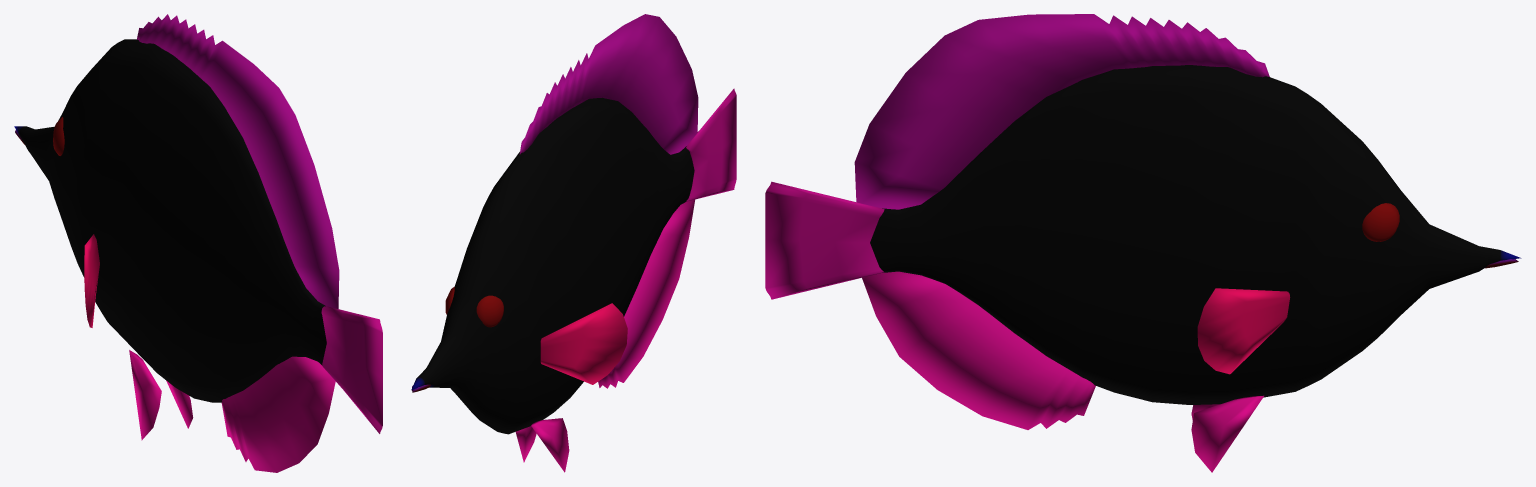
File: butterflyfish_copperband_game.glb
The picture shows the model from 3 angles, left to right: view 1: azimuth 30°, elevation 25°; view 2: azimuth 150°, elevation 25°; view 3: azimuth 270°, elevation 25°; orthographic projection. The views are drawn at different scales.
Visible parts, largest first — view 1: butterflyfish_copperband_game; view 2: butterflyfish_copperband_game; view 3: butterflyfish_copperband_game.
Part boxes in pixels (box(x1,y1,x2,y2)): butterflyfish_copperband_game: box(14, 14, 382, 472); butterflyfish_copperband_game: box(411, 14, 736, 472); butterflyfish_copperband_game: box(765, 14, 1521, 472).
Size of the model in its own units: 0.0493 by 0.1175 by 0.18.
